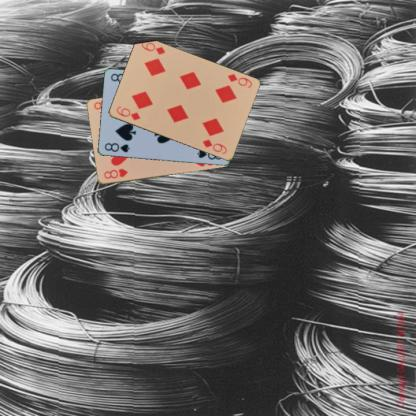6d: (225, 71, 253, 89), (114, 104, 141, 122)
8h: (101, 166, 129, 180)
8s: (102, 140, 130, 154)
